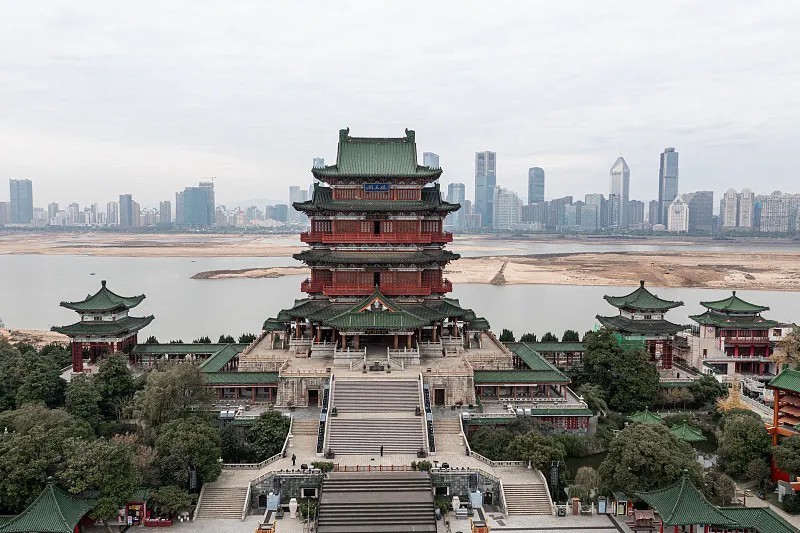Teng: (262, 127, 491, 352)
